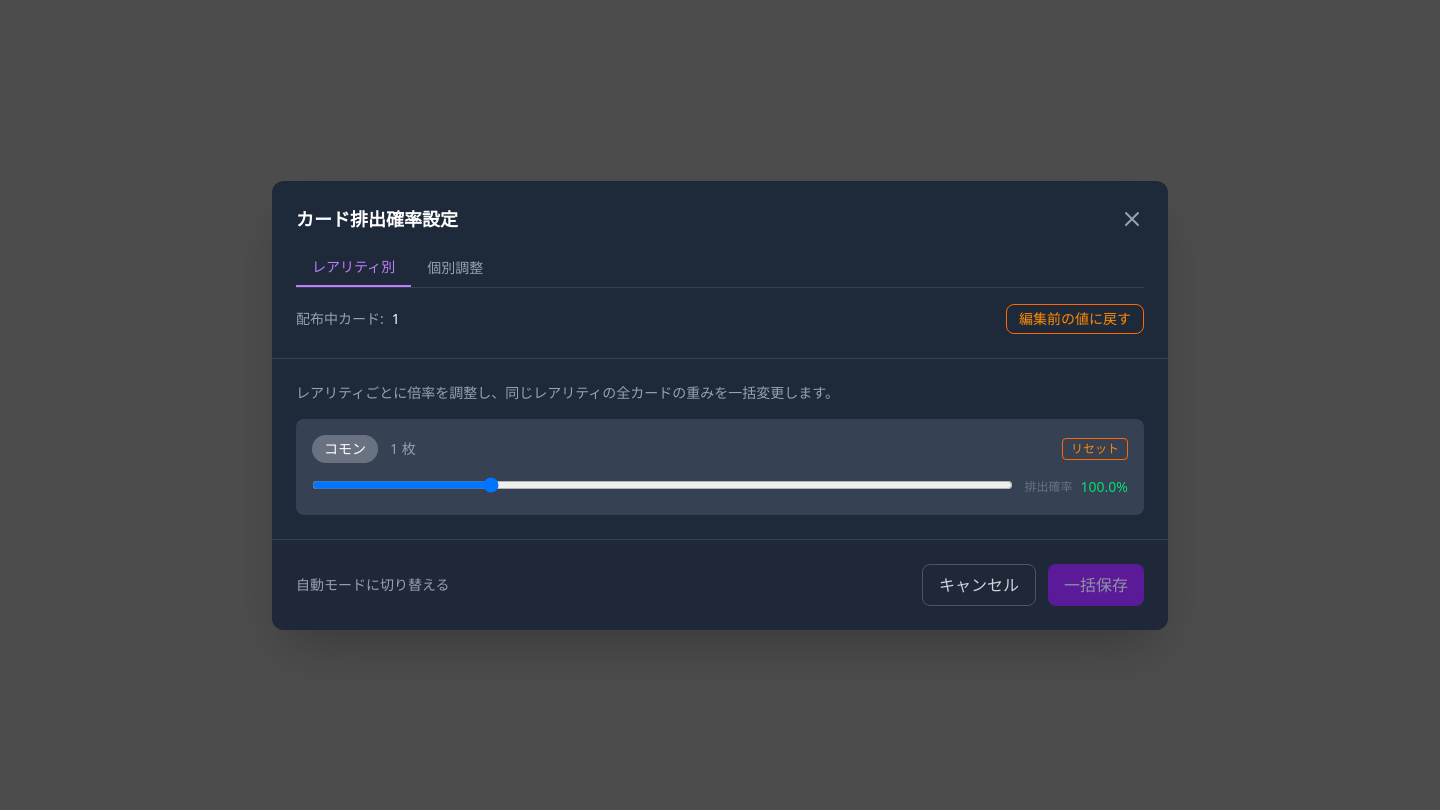
Test: BatchDropRateManualContent maintenance integration › mode=off で変更ありのときは保存ボタンが操作可能（既存挙動を壊さない）
Set the slider to "0.5" at (662, 484), box x1=312 y1=476 x2=1012 y2=492
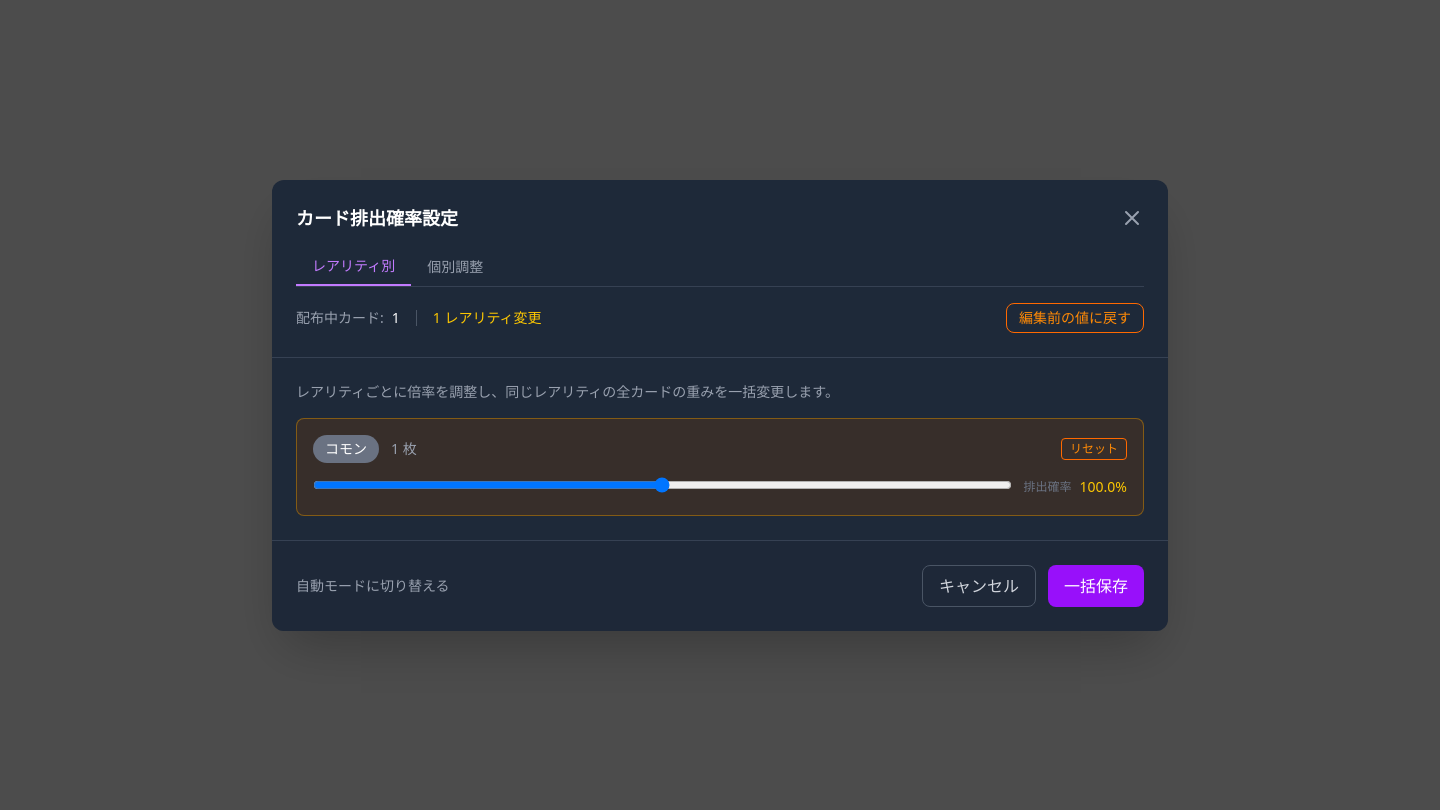
expect the button "一括保存" is enabled: met, box x1=1048 y1=564 x2=1144 y2=606
